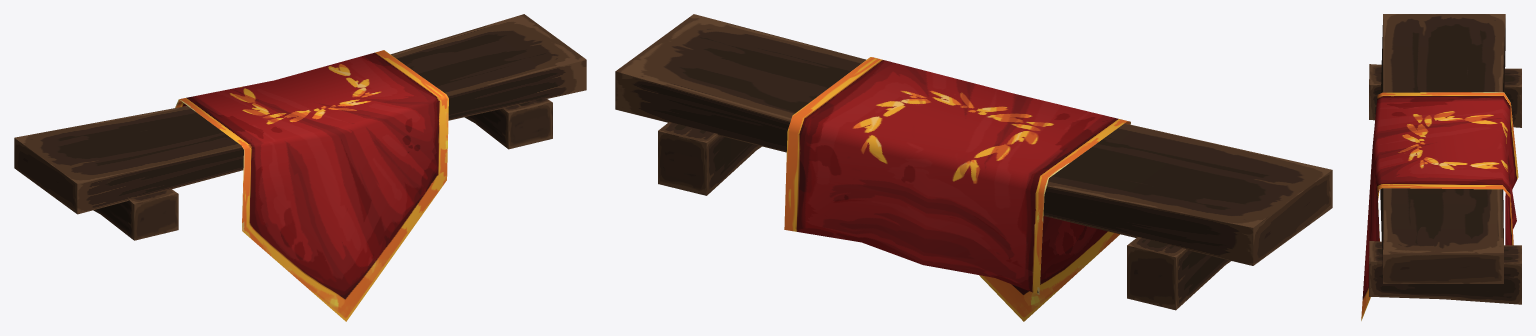
The model's file is SM_PROP_wallshelf_dungeon_01.fbx.
The picture shows the model from 3 angles, left to right: view 1: azimuth 30°, elevation 25°; view 2: azimuth 150°, elevation 25°; view 3: azimuth 270°, elevation 25°; orthographic projection. The views are drawn at different scales.
Visible parts, largest first — view 1: SM_PROP_wallshelf_dungeon_01; view 2: SM_PROP_wallshelf_dungeon_01; view 3: SM_PROP_wallshelf_dungeon_01.
Boxes of the visible parts, <box> form: SM_PROP_wallshelf_dungeon_01: <box>14,14,586,321</box>; SM_PROP_wallshelf_dungeon_01: <box>615,14,1332,321</box>; SM_PROP_wallshelf_dungeon_01: <box>1361,14,1521,320</box>.
Size of the model in its own units: 152 by 55.04 by 43.02.
